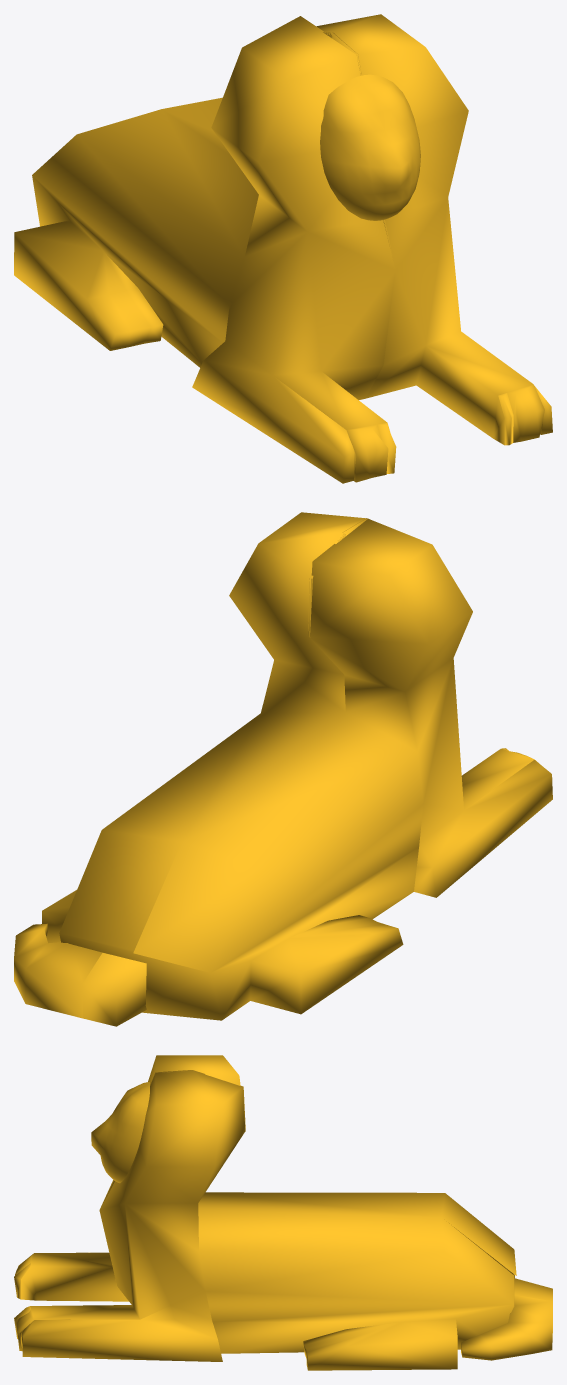
The model's file is ABOU AL HAWL.fbx.
The picture shows the model from 3 angles, top to bottom: view 1: azimuth 30°, elevation 25°; view 2: azimuth 150°, elevation 25°; view 3: azimuth 270°, elevation 25°; orthographic projection. The views are drawn at different scales.
Parts seen in each view (by area): view 1: Cube; view 2: Cube; view 3: Cube.
Boxes of the visible parts, box(x1,y1,x2,y2) form: Cube: box(14, 14, 552, 483); Cube: box(14, 512, 552, 1026); Cube: box(14, 1055, 552, 1370).
Bounding box in the file's own units: 305 × 352 × 683.
